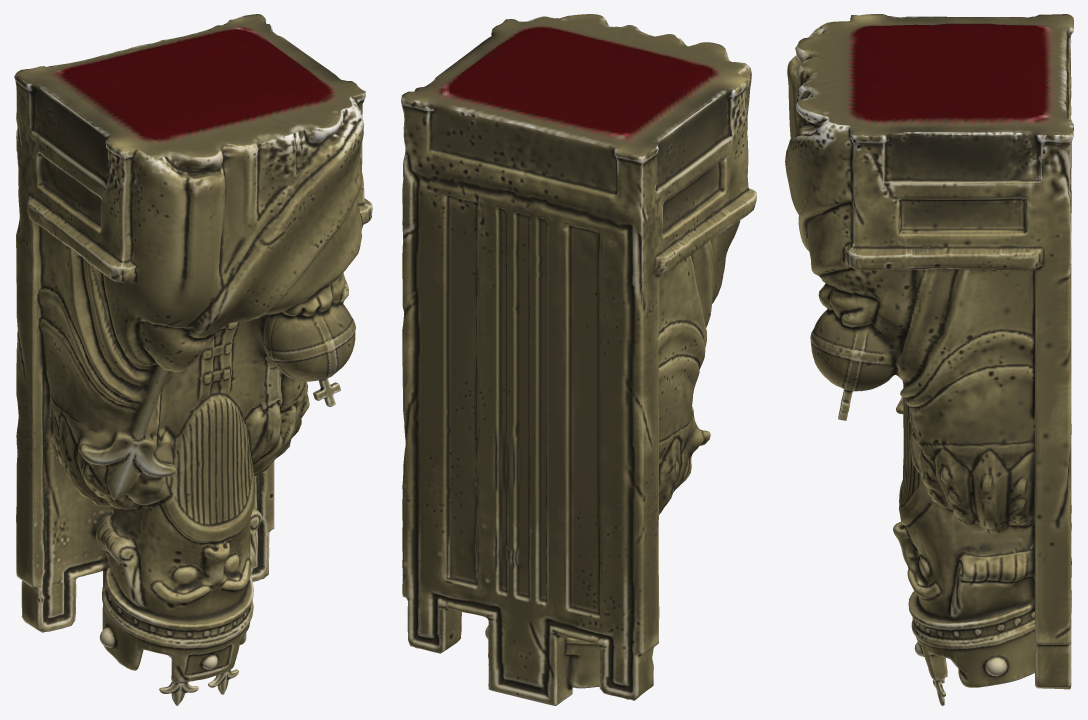
Rendered from king.fbx.
3 views of the same model, side by side, from view 1: azimuth 30°, elevation 25°; view 2: azimuth 150°, elevation 25°; view 3: azimuth 270°, elevation 25° (orthographic). The views are drawn at different scales.
Visible parts, largest first — view 1: 12939_Stone_Chess_King_Side_A_V2_l1; view 2: 12939_Stone_Chess_King_Side_A_V2_l1; view 3: 12939_Stone_Chess_King_Side_A_V2_l1.
Part boxes in pixels (x1=…): 12939_Stone_Chess_King_Side_A_V2_l1: x1=14, y1=14, x2=372, y2=705; 12939_Stone_Chess_King_Side_A_V2_l1: x1=401, y1=14, x2=756, y2=705; 12939_Stone_Chess_King_Side_A_V2_l1: x1=785, y1=14, x2=1073, y2=705.
Bounding box in the file's own units: 517 × 1159 × 486.
Materials: 1 (1 with a texture image).
